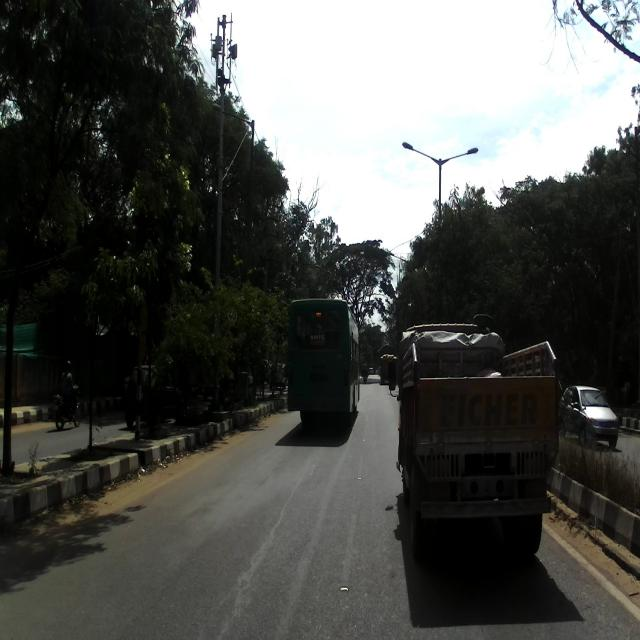Car: (122, 364, 184, 430)
Car_TATA: (558, 383, 618, 451)
bus: (286, 296, 360, 434)
truck: (387, 311, 561, 564)
